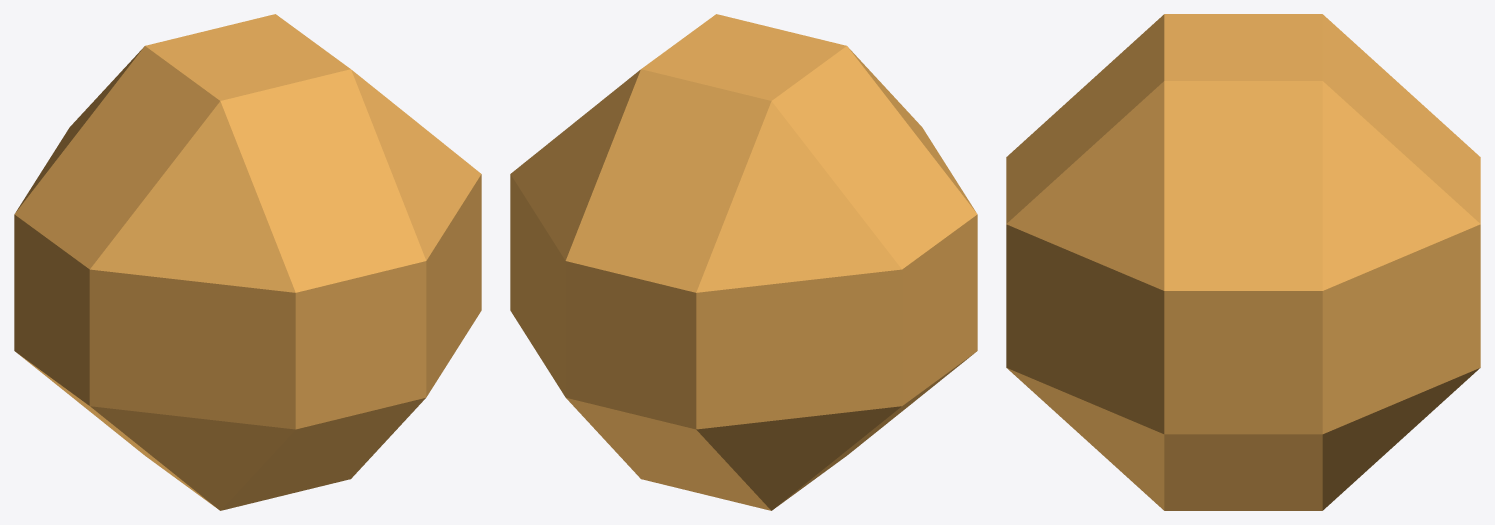
File: Gem_02.fbx
The picture shows the model from 3 angles, left to right: view 1: azimuth 30°, elevation 25°; view 2: azimuth 150°, elevation 25°; view 3: azimuth 270°, elevation 25°; orthographic projection. The views are drawn at different scales.
Visible parts, largest first — view 1: Gem_02; view 2: Gem_02; view 3: Gem_02.
Part boxes in pixels (<box>): Gem_02: <box>14,14,481,510</box>; Gem_02: <box>510,14,977,510</box>; Gem_02: <box>1006,14,1480,510</box>.
Bounding box in the file's own units: 270 × 270 × 270.
